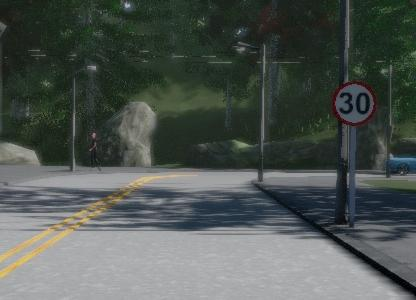Speed_30: (331, 79, 379, 126)
